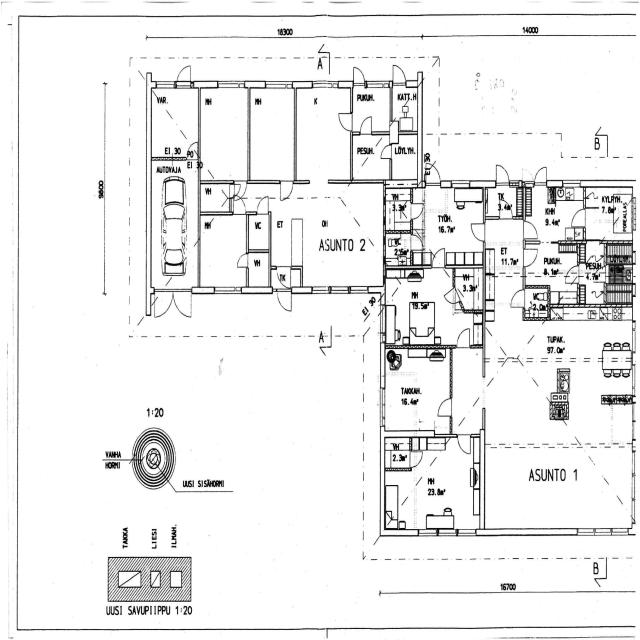door: (310, 156, 330, 183), (273, 265, 292, 290), (435, 394, 454, 418), (493, 163, 511, 188), (175, 64, 192, 90), (454, 326, 472, 350), (522, 244, 540, 268), (469, 220, 487, 243), (522, 219, 540, 242), (424, 162, 441, 186), (456, 432, 472, 457), (276, 288, 292, 313), (391, 64, 407, 88), (337, 110, 354, 132), (509, 288, 526, 310), (279, 178, 294, 202), (431, 246, 446, 270), (570, 207, 586, 229), (532, 166, 548, 187), (232, 179, 247, 200), (352, 65, 366, 87), (359, 114, 373, 136), (235, 250, 250, 270), (256, 195, 270, 216), (410, 202, 424, 222), (443, 288, 457, 306), (232, 194, 245, 213), (409, 450, 422, 468), (380, 144, 392, 160), (410, 234, 422, 250)
window: (592, 525, 628, 537), (212, 284, 243, 297), (429, 524, 457, 538), (378, 382, 387, 423), (264, 79, 292, 91), (312, 80, 338, 92), (481, 372, 488, 416), (217, 79, 242, 91), (309, 284, 331, 296), (154, 79, 176, 90), (366, 80, 390, 90), (329, 284, 350, 295), (456, 527, 478, 537), (563, 177, 582, 188), (403, 526, 420, 537), (630, 325, 636, 352), (405, 80, 420, 90)
zone: (485, 311, 634, 534), (271, 180, 384, 290), (384, 439, 480, 530), (382, 348, 452, 436), (294, 86, 352, 182), (411, 189, 484, 262), (386, 269, 456, 344), (199, 85, 250, 182), (248, 85, 296, 182), (198, 211, 248, 291), (583, 240, 632, 318), (522, 184, 586, 241), (150, 86, 200, 157), (525, 242, 581, 295), (583, 190, 633, 240), (485, 218, 525, 280), (352, 84, 392, 134), (352, 133, 391, 181), (391, 133, 419, 184), (454, 266, 484, 312), (384, 185, 412, 232), (150, 289, 192, 320), (391, 84, 419, 130), (484, 186, 522, 219), (199, 182, 233, 214), (247, 250, 271, 291), (385, 232, 412, 268), (384, 435, 412, 469), (524, 286, 550, 319), (248, 213, 270, 251), (272, 265, 292, 290)
